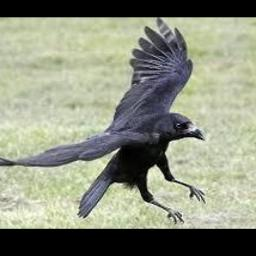Crow: (0, 17, 206, 223)
